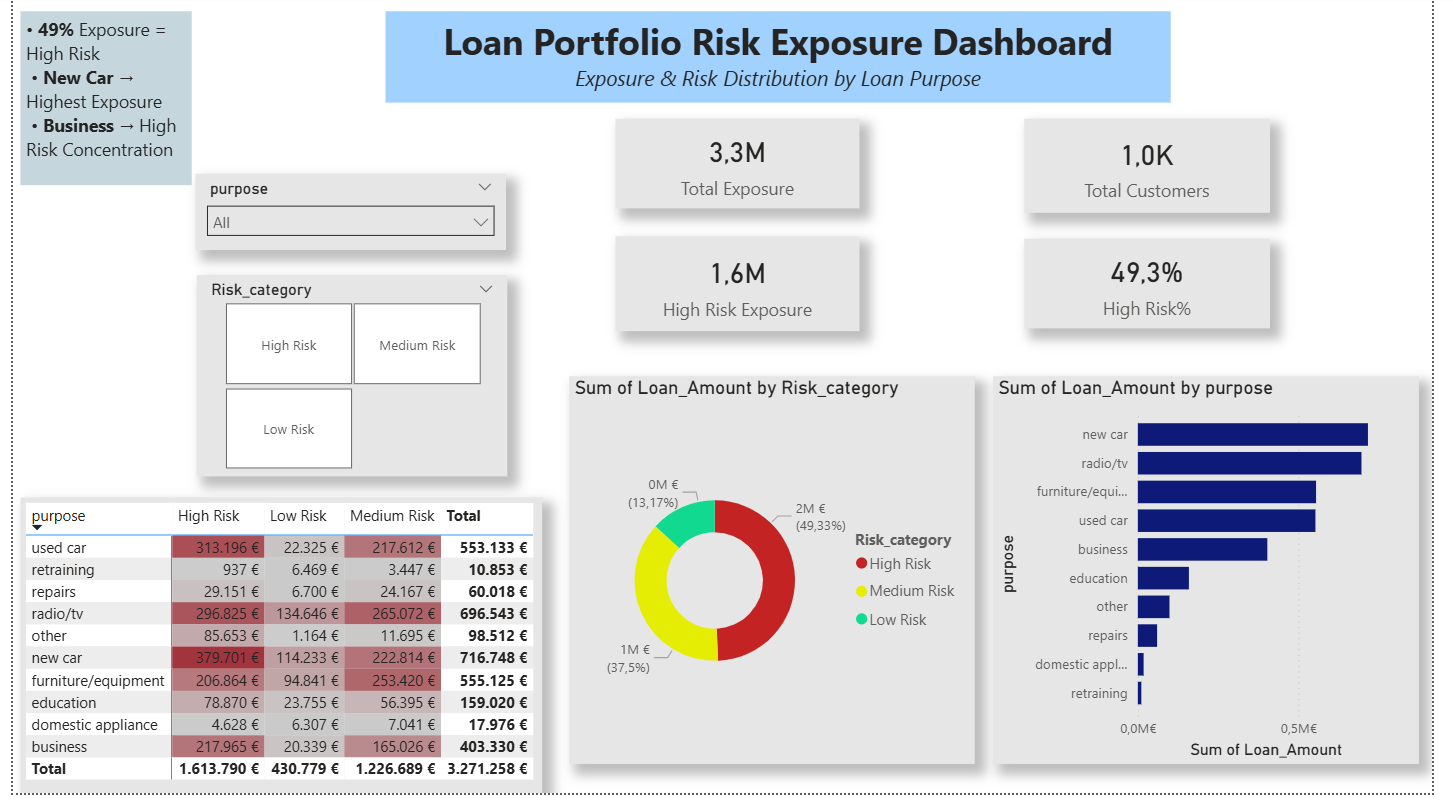

The page's visual inventory and layout, read from the dashboard file:
{"tool":"powerbi","page":{"name":"Page 1","canvas":[1280,720],"ordinal":0},"visuals":[{"type":"card","fields":{"Values":["Risk Analysis.Total Exposure"]},"box":[543.6,112,220.2,80.9],"z":0},{"type":"card","fields":{"Values":["CountNonNull(Risk Analysis.customer_ID)"]},"box":[911.8,112,221.4,84.6],"z":1000},{"type":"slicer","fields":{"Values":["Risk Analysis.Risk_category"]},"box":[165.4,252.5,279.9,181.6],"z":2000},{"type":"slicer","fields":{"Values":["Risk Analysis.purpose"]},"box":[164.2,161.7,279.9,68.4],"z":3000},{"type":"donutChart","fields":{"Category":["Risk Analysis.Risk_category"],"Y":["Sum(Risk Analysis.Loan_Amount)"]},"box":[501.3,343.3,365.7,349.6],"z":4000},{"type":"clusteredBarChart","fields":{"Y":["Sum(Risk Analysis.Loan_Amount)"],"Category":["Risk Analysis.purpose"]},"box":[883.2,343.3,384.4,349.6],"z":5000},{"type":"pivotTable","fields":{"Rows":["Risk Analysis.purpose"],"Columns":["Risk Analysis.Risk_category"],"Values":["Sum(Risk Analysis.Loan_Amount)"]},"box":[6.2,452.8,470.2,267.5],"z":6000},{"type":"textbox","box":[335.9,14.9,707.8,82.1],"z":7000},{"type":"textbox","box":[6.2,14.9,154.3,156.7],"z":8000},{"type":"card","fields":{"Values":["Risk Analysis.High Risk Exposure"]},"box":[543.6,217.7,220.2,85.8],"z":9000},{"type":"card","fields":{"Values":["Risk Analysis.High Risk%"]},"box":[911.8,220.2,221.4,80.9],"z":10000}]}

Visuals, with their boxes in screenshot pixels (x1, y1, x2, y2), scaled from the page's 1280x720 canvas onto the 1453x800 screenshot:
card - Risk Analysis.Total Exposure: region(617, 124, 867, 214)
card - CountNonNull(Risk Analysis.customer_ID): region(1035, 124, 1286, 218)
slicer - Risk Analysis.Risk_category: region(188, 281, 505, 482)
slicer - Risk Analysis.purpose: region(186, 180, 504, 256)
donutChart - Risk Analysis.Risk_category x Sum(Risk Analysis.Loan_Amount): region(569, 381, 984, 770)
clusteredBarChart - Sum(Risk Analysis.Loan_Amount) x Risk Analysis.purpose: region(1003, 381, 1439, 770)
pivotTable - Risk Analysis.purpose x Risk Analysis.Risk_category: region(7, 503, 541, 799)
textbox: region(381, 17, 1185, 108)
textbox: region(7, 17, 182, 191)
card - Risk Analysis.High Risk Exposure: region(617, 242, 867, 337)
card - Risk Analysis.High Risk%: region(1035, 245, 1286, 335)
